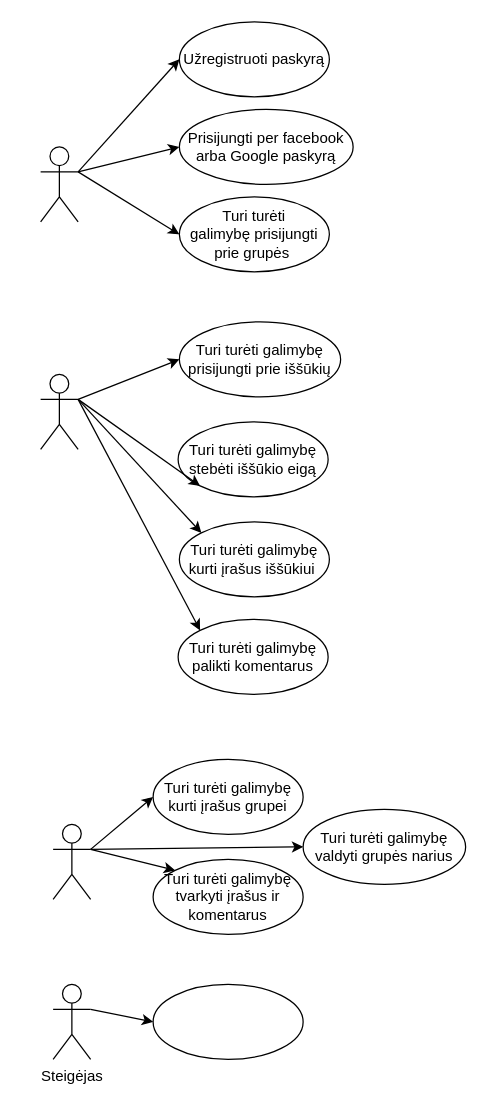
Some shapes in this 488 by 1108 pixel diagram are drawn without their labels. The shapes that lost their labels are listed below. From the top down, each one's centre as x and y in pixels, then its label:
point 58,184: Naudotojas
point 58,411: Narys
point 71,861: Moderatorius
point 227,1021: Turi turėti galimybę valdyti iššūkius
